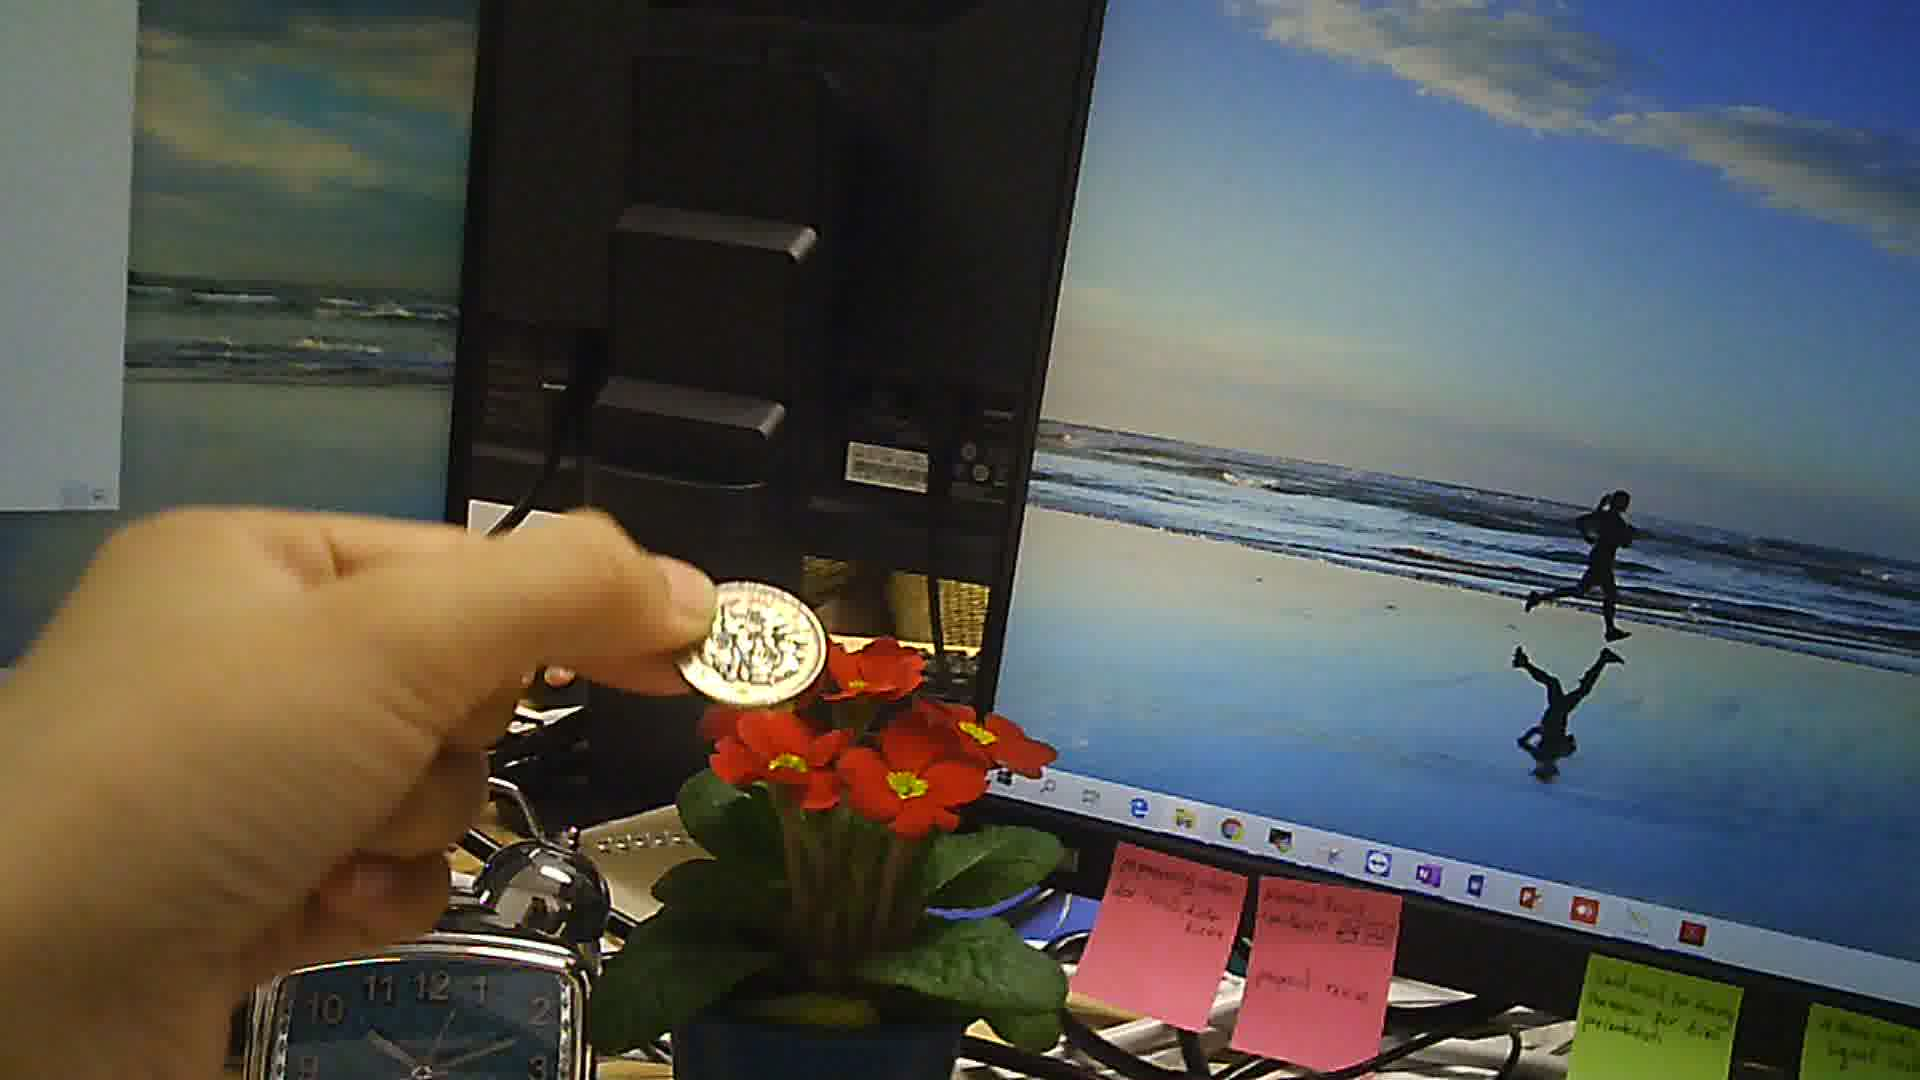100 Yen: (669, 578, 818, 719)
